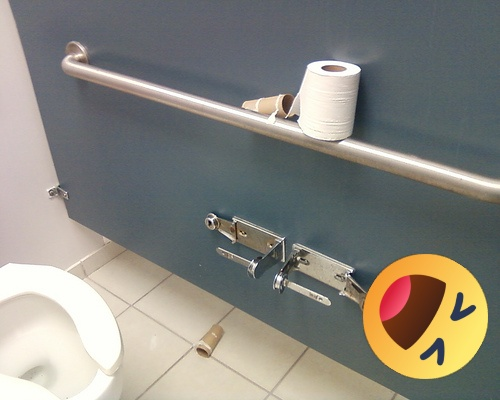haha: (363, 254, 488, 379)
